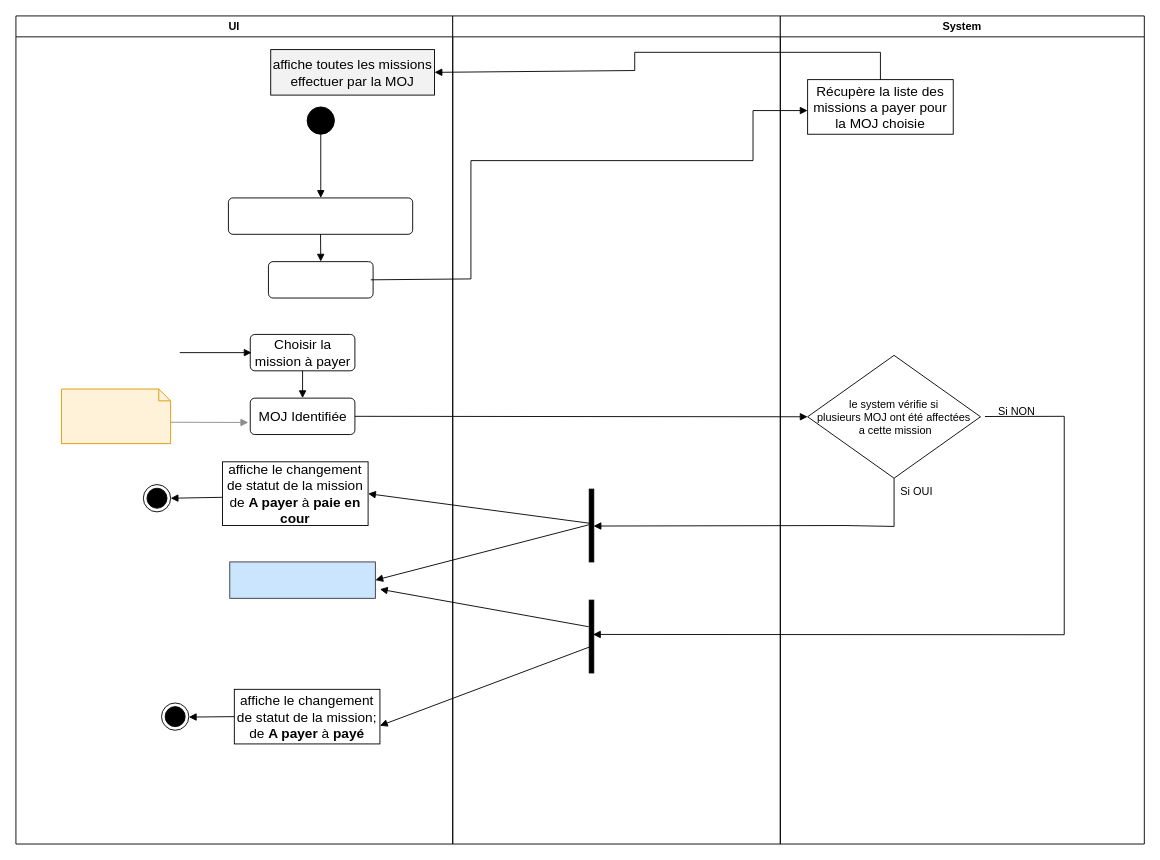
Image size: 1160x860. Some labels were removed from this diagram. The shapes that lost their labels are listed below. From the top down, each one's centre as x and y in pixels, then its label:
At point 320,215: "Sélectionner et / ou Identifier la MOJ à payer".
At point 320,279: "Payer MOJ".
At point 116,416: "Cette action permet vailder la paie de la MOJ".
At point 616,429: "Control".
At point 302,579: "affiche message de succès".
